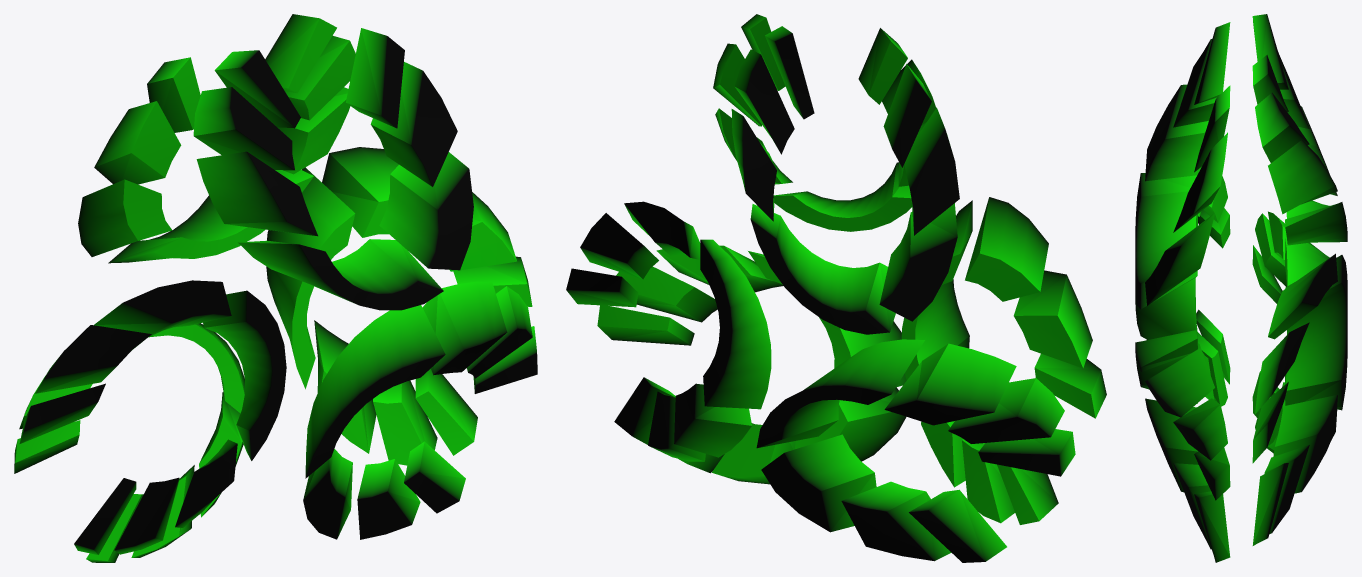
File: Symbolics06.FBX
3 views of the same model, side by side, from view 1: azimuth 30°, elevation 25°; view 2: azimuth 150°, elevation 25°; view 3: azimuth 270°, elevation 25° (orthographic). The views are drawn at different scales.
Visible parts, largest first — view 1: Symbolics06; view 2: Symbolics06; view 3: Symbolics06.
Boxes of the visible parts, x1,y1,x2,y2 form: Symbolics06: (14,14,537,562); Symbolics06: (566,14,1106,562); Symbolics06: (1135,14,1347,562).
Bounding box in the file's own units: 26.1 × 23.85 × 10.07.
